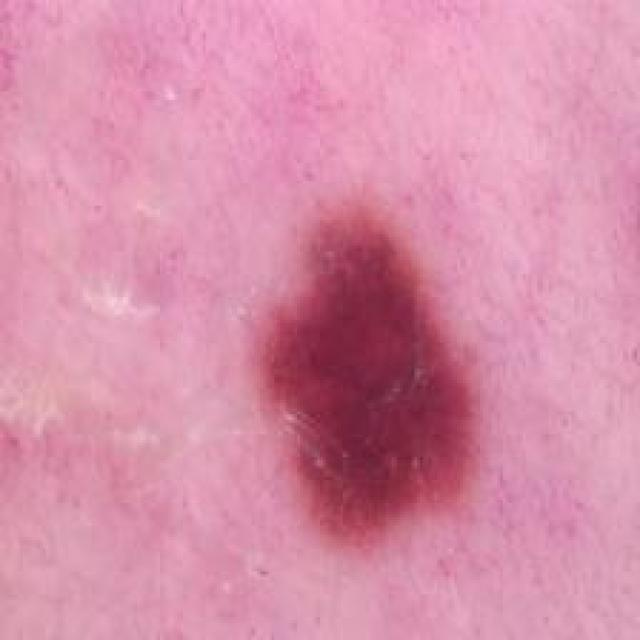Cancer: (249, 194, 480, 543)
